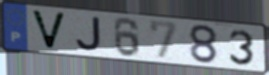3: (227, 29, 256, 67)
6: (112, 16, 142, 59)
7: (147, 19, 182, 61)
8: (188, 24, 219, 65)
J: (74, 16, 103, 53)
V: (29, 8, 68, 51)
